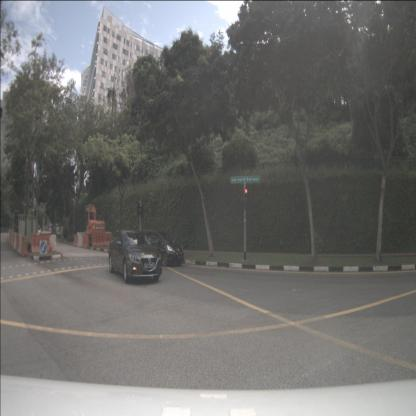barrier: (30, 235, 50, 253), (92, 231, 106, 248), (21, 236, 29, 258), (17, 234, 25, 255), (81, 235, 91, 249), (76, 234, 84, 248), (50, 234, 56, 252), (106, 232, 113, 247), (15, 234, 20, 252), (13, 233, 18, 250), (73, 234, 79, 247), (12, 232, 16, 247), (10, 232, 14, 246), (9, 232, 11, 244)
cone: (50, 238, 54, 253)
